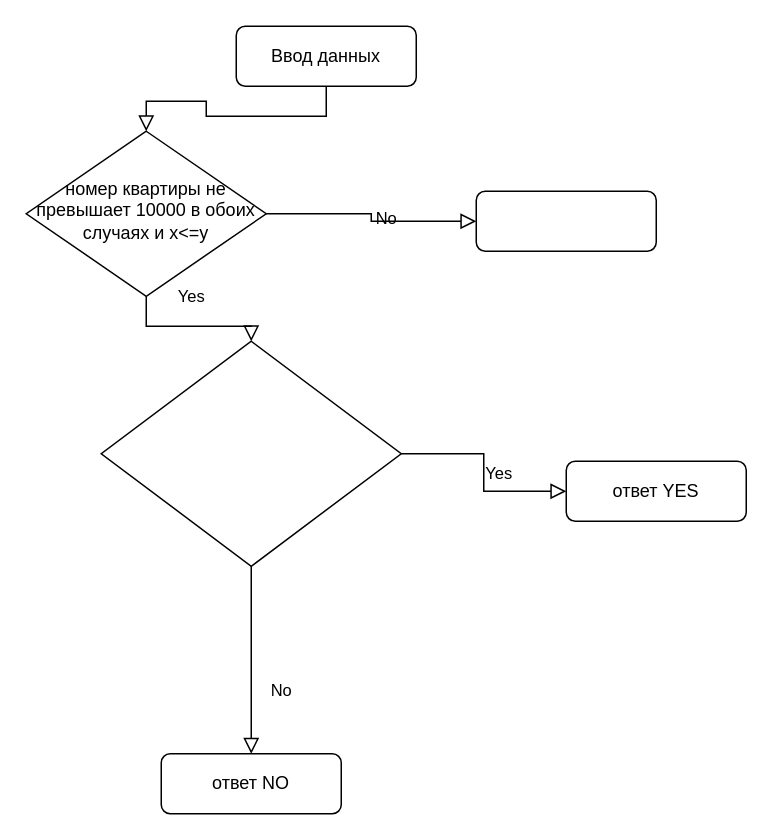
Some shapes in this 773 by 840 pixel diagram are drawn without their labels. Here are the shapes that lost their labels. From the top down, the centre of each, then its label:
(x=565, y=220): ошибка
(x=250, y=453): (x-1)%(y-x+1) == 0
